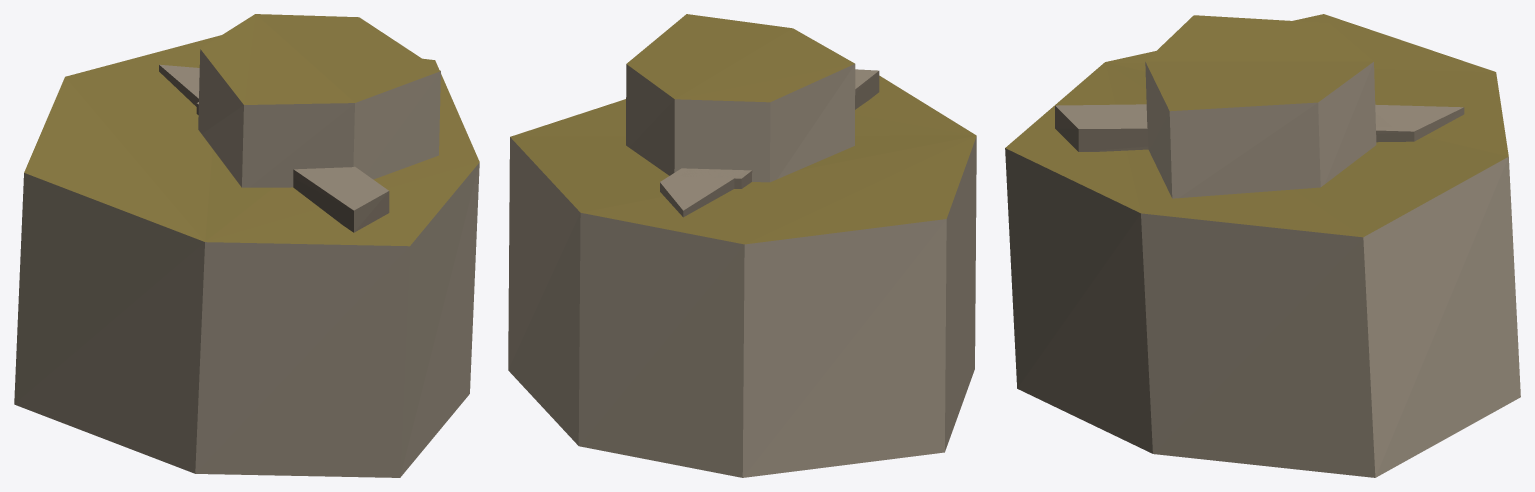
Rendered from rock.ledge__crusted__spring.glb.
3 renders of one model, left to right at view 1: azimuth 30°, elevation 25°; view 2: azimuth 150°, elevation 25°; view 3: azimuth 270°, elevation 25°, orthographic. The views are drawn at different scales.
Visible parts, largest first — view 1: rock.ledge; view 2: rock.ledge; view 3: rock.ledge.
Part boxes in pixels (bbox=[...]): rock.ledge: bbox=[14, 14, 479, 477]; rock.ledge: bbox=[508, 14, 976, 477]; rock.ledge: bbox=[1005, 14, 1520, 477].
Size of the model in its own units: 2.9 by 2.11 by 2.89.
